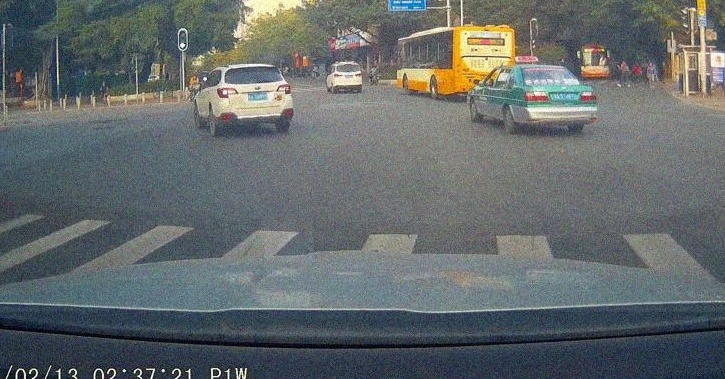L_light: (524, 91, 550, 102), (216, 87, 238, 98), (334, 73, 343, 76)
R_light: (276, 83, 292, 94), (580, 91, 597, 101), (355, 73, 362, 76)
T_light: (543, 67, 554, 70), (249, 67, 260, 69), (345, 64, 352, 65)
day-left: (214, 63, 294, 135)
day-no: (518, 64, 598, 131), (333, 62, 363, 93)
